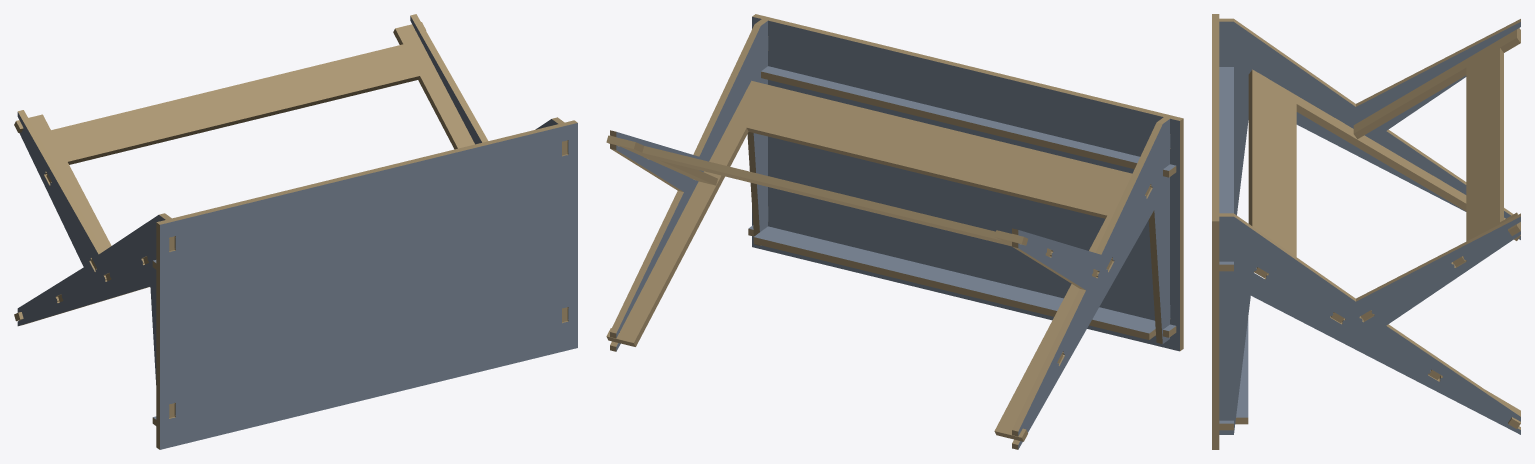
File: NODO_ESCRITORIO_ESCULTORICO_CUARZO_MASTER_COLOR.glb
3 views of the same model, side by side, from view 1: azimuth 30°, elevation 25°; view 2: azimuth 150°, elevation 25°; view 3: azimuth 270°, elevation 25° (orthographic). The views are drawn at different scales.
Parts seen in each view (by area): view 1: G_Tapa_Superior_cuerpo, B_Escuadra_Trasera_canto, D_Lateral_Izq_cuerpo, G_Tapa_Superior_canto, D_Lateral_Izq_canto, C_Lateral_Der_canto, C_Lateral_Der_cuerpo; view 2: G_Tapa_Superior_cuerpo, A_Escuadra_Delantera_canto, D_Lateral_Izq_cuerpo, C_Lateral_Der_cuerpo, F_Traba_Delantera_cuerpo, B_Escuadra_Trasera_canto, D_Lateral_Izq_canto, C_Lateral_Der_canto, E_Traba_Trasera_cuerpo, E_Traba_Trasera_canto, F_Traba_Delantera_canto, G_Tapa_Superior_canto; view 3: C_Lateral_Der_cuerpo, D_Lateral_Izq_cuerpo, A_Escuadra_Delantera_canto, B_Escuadra_Trasera_canto, G_Tapa_Superior_canto, E_Traba_Trasera_cuerpo, C_Lateral_Der_canto, D_Lateral_Izq_canto, F_Traba_Delantera_cuerpo.
Boxes of the visible parts, x1=… form: G_Tapa_Superior_cuerpo: x1=160, y1=123, x2=577, y2=449; B_Escuadra_Trasera_canto: x1=14, y1=22, x2=474, y2=269; D_Lateral_Izq_cuerpo: x1=17, y1=112, x2=165, y2=384; G_Tapa_Superior_canto: x1=156, y1=120, x2=577, y2=449; D_Lateral_Izq_canto: x1=17, y1=110, x2=174, y2=417; C_Lateral_Der_canto: x1=410, y1=14, x2=567, y2=321; C_Lateral_Der_cuerpo: x1=410, y1=16, x2=557, y2=144; G_Tapa_Superior_cuerpo: x1=752, y1=16, x2=1179, y2=351; A_Escuadra_Delantera_canto: x1=606, y1=80, x2=1150, y2=441; D_Lateral_Izq_cuerpo: x1=1018, y1=119, x2=1170, y2=449; C_Lateral_Der_cuerpo: x1=616, y1=21, x2=768, y2=351; F_Traba_Delantera_cuerpo: x1=749, y1=225, x2=1175, y2=333; B_Escuadra_Trasera_canto: x1=606, y1=135, x2=1097, y2=277; D_Lateral_Izq_canto: x1=1012, y1=117, x2=1169, y2=449; C_Lateral_Der_canto: x1=610, y1=19, x2=767, y2=351; E_Traba_Trasera_cuerpo: x1=761, y1=66, x2=1175, y2=170; E_Traba_Trasera_canto: x1=761, y1=71, x2=1176, y2=177; F_Traba_Delantera_canto: x1=748, y1=228, x2=1176, y2=339; G_Tapa_Superior_canto: x1=752, y1=14, x2=1183, y2=350; C_Lateral_Der_cuerpo: x1=1219, y1=216, x2=1520, y2=434; D_Lateral_Izq_cuerpo: x1=1219, y1=21, x2=1520, y2=239; A_Escuadra_Delantera_canto: x1=1248, y1=69, x2=1520, y2=428; B_Escuadra_Trasera_canto: x1=1353, y1=28, x2=1520, y2=320; G_Tapa_Superior_canto: x1=1212, y1=14, x2=1219, y2=449; E_Traba_Trasera_cuerpo: x1=1219, y1=67, x2=1233, y2=264; C_Lateral_Der_canto: x1=1219, y1=213, x2=1520, y2=429; D_Lateral_Izq_canto: x1=1219, y1=18, x2=1520, y2=215; F_Traba_Delantera_cuerpo: x1=1219, y1=318, x2=1248, y2=423.
Bounding box in the file's own units: 1.22 × 0.628 × 0.7681.
